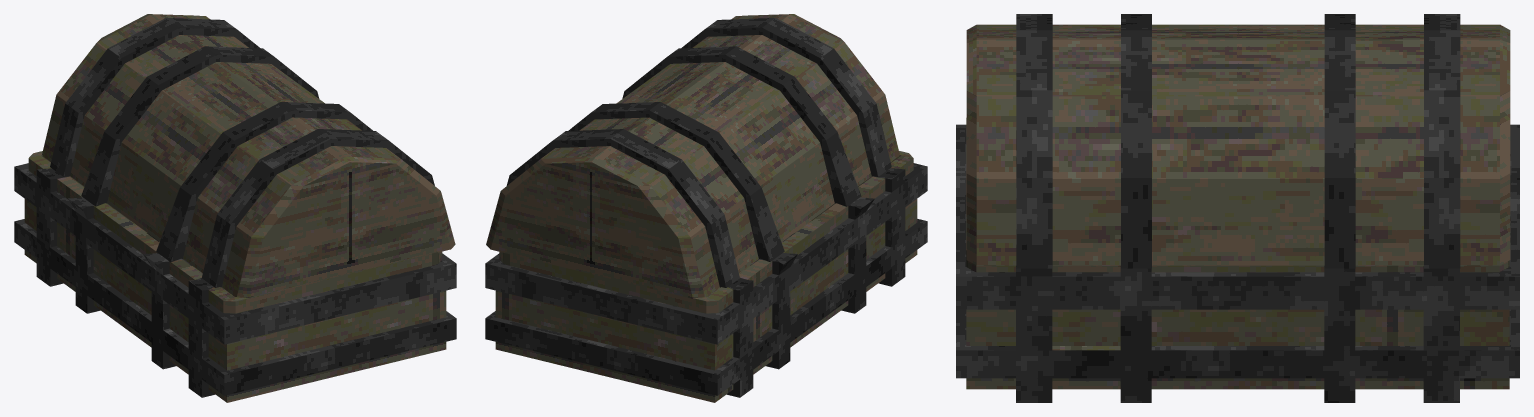
The model's file is chest_02_001.gltf.
3 views of the same model, side by side, from view 1: azimuth 30°, elevation 25°; view 2: azimuth 150°, elevation 25°; view 3: azimuth 270°, elevation 25° (orthographic). The views are drawn at different scales.
Visible parts, largest first — view 1: Chest_lid.003, chest_02.001; view 2: Chest_lid.003, chest_02.001; view 3: Chest_lid.003, chest_02.001.
Part boxes in pixels (x1=…): Chest_lid.003: x1=42, y1=14, x2=455, y2=297; chest_02.001: x1=14, y1=151, x2=456, y2=402; Chest_lid.003: x1=486, y1=14, x2=899, y2=298; chest_02.001: x1=485, y1=151, x2=927, y2=402; Chest_lid.003: x1=966, y1=14, x2=1510, y2=268; chest_02.001: x1=956, y1=118, x2=1519, y2=402.
Size of the model in its own units: 1.15 by 0.9919 by 1.66.
Materials: 1 (1 with a texture image).
